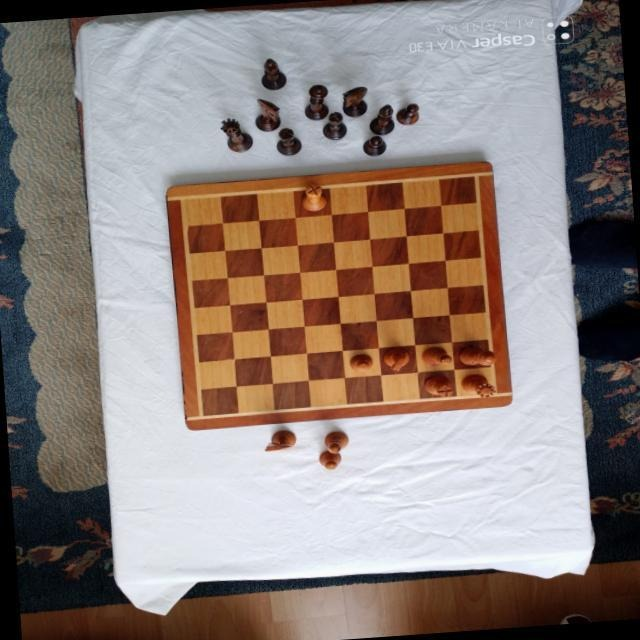black-bishop: (259, 55, 287, 89), (367, 102, 395, 134)
black-king: (302, 83, 329, 121)
black-knight: (253, 96, 281, 132), (341, 84, 369, 116)
black-pawn: (395, 101, 420, 125), (361, 133, 386, 156)
black-queen: (218, 116, 253, 152)
black-rook: (274, 125, 302, 155), (321, 109, 347, 139)
white-bishop: (420, 344, 451, 366), (322, 428, 349, 452)
white-king: (458, 343, 497, 366)
white-knight: (262, 429, 296, 451), (382, 347, 410, 373)
white-pawn: (318, 448, 342, 470), (347, 353, 372, 371)
white-queen: (460, 371, 496, 397)
white-rook: (299, 181, 326, 211), (424, 373, 454, 397)
